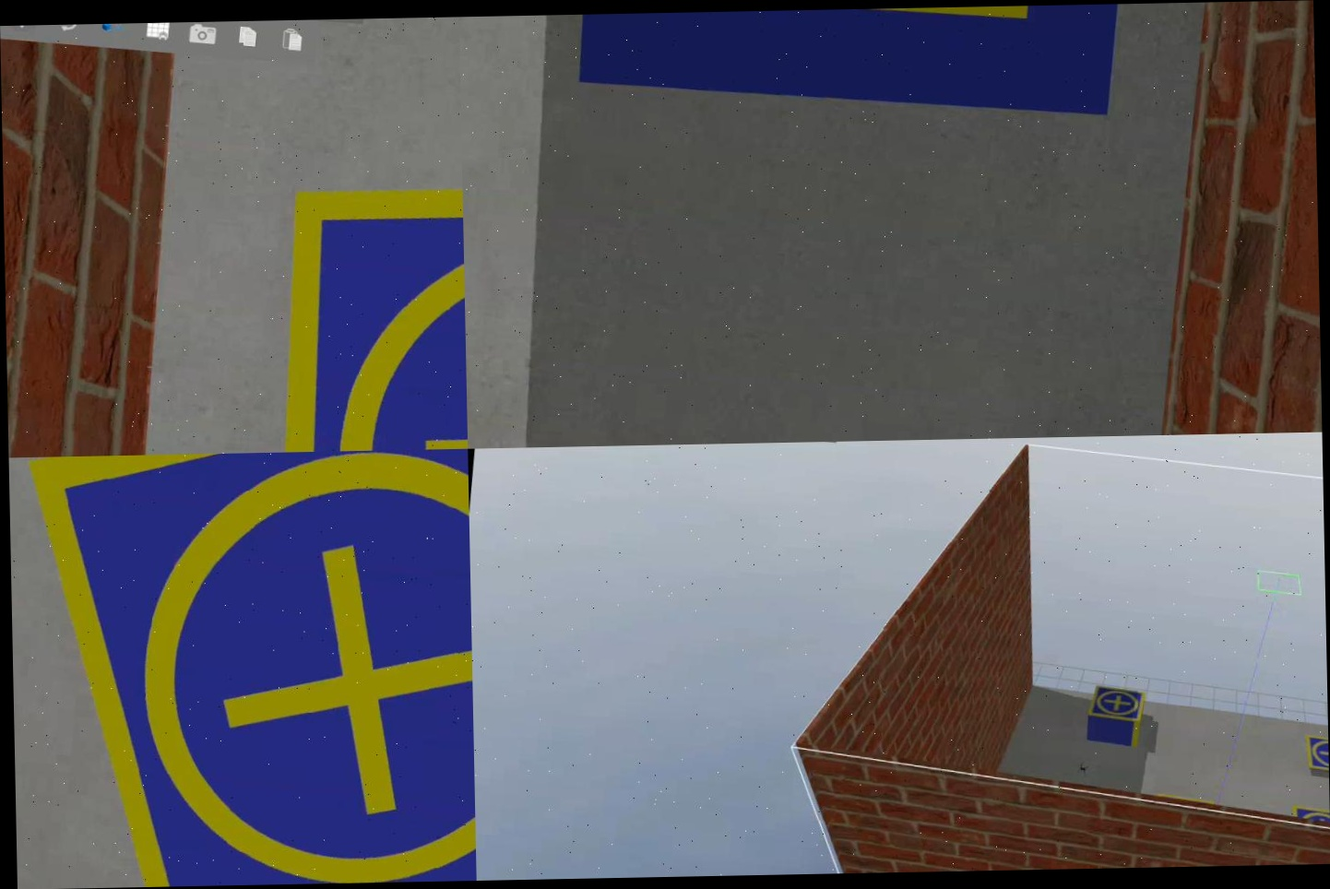large_base: (567, 4, 1141, 142)
small_base: (9, 449, 477, 889), (232, 135, 468, 454), (1087, 682, 1149, 725), (1300, 732, 1328, 780), (1291, 804, 1329, 828)
